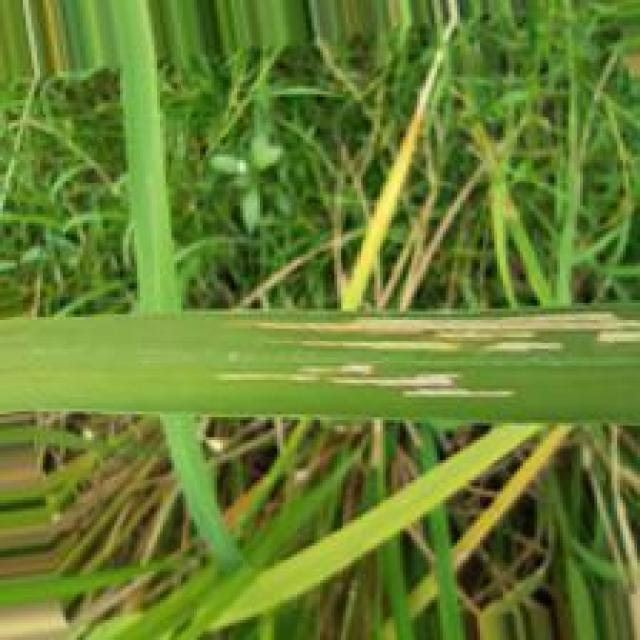Rice_Hispa: (227, 313, 640, 353), (341, 367, 522, 399), (474, 337, 556, 354)
